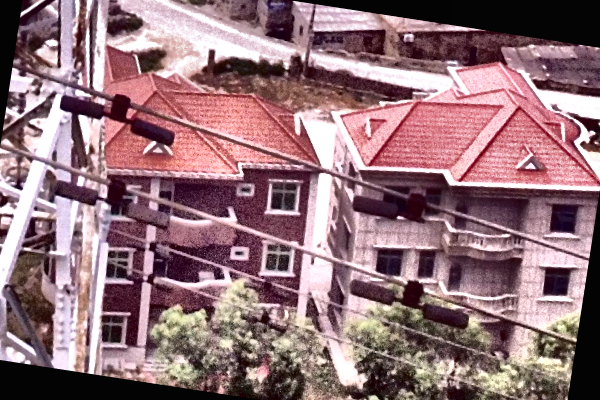damper: (344, 273, 472, 330), (52, 174, 173, 232), (55, 89, 175, 146), (239, 277, 290, 301), (123, 239, 173, 261), (123, 271, 173, 292), (239, 311, 287, 332)
damper_defect: (350, 186, 433, 227)
